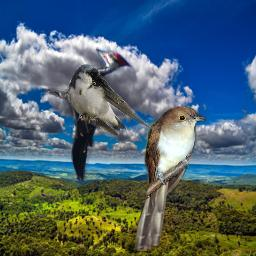Cuckoo: (135, 105, 206, 251)
Swallow: (66, 63, 155, 137)
Woodpecker: (42, 47, 134, 183)
